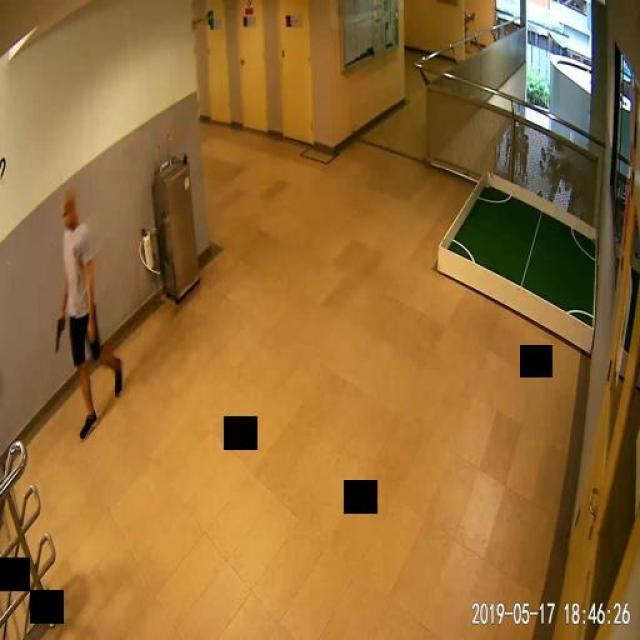gun: (54, 311, 64, 351)
